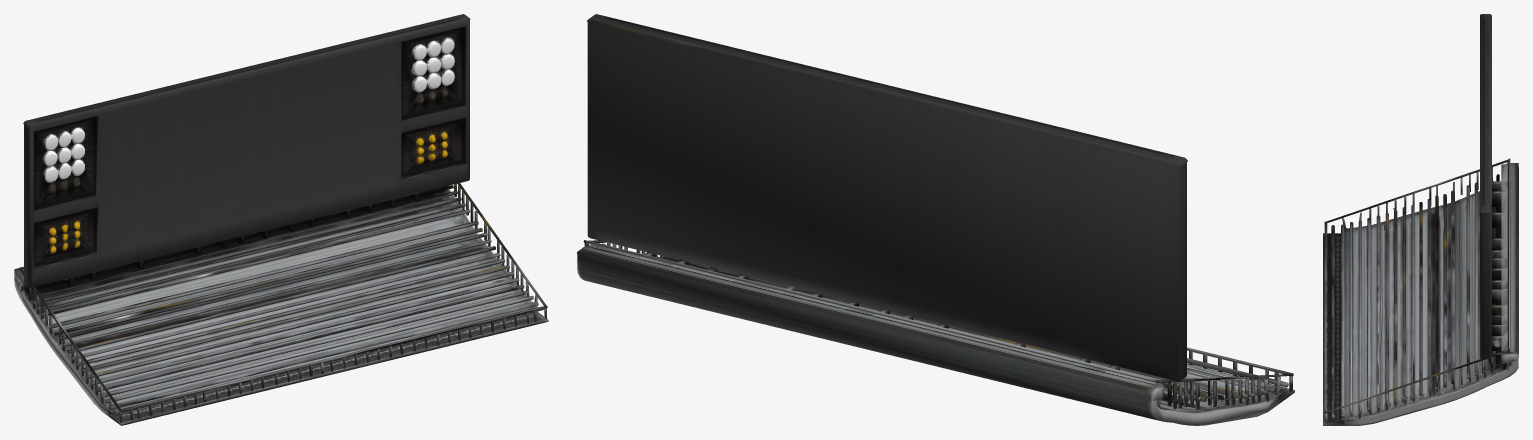
Rendered from stadium_scoreboard_8bd66713_v3.glb.
3 views of the same model, side by side, from view 1: azimuth 30°, elevation 25°; view 2: azimuth 150°, elevation 25°; view 3: azimuth 270°, elevation 25° (orthographic). The views are drawn at different scales.
Parts seen in each view (by area): view 1: texture_pbr_20250901; view 2: texture_pbr_20250901; view 3: texture_pbr_20250901.
Part boxes in pixels (x1=…): texture_pbr_20250901: x1=14, y1=14, x2=548, y2=425; texture_pbr_20250901: x1=577, y1=14, x2=1294, y2=425; texture_pbr_20250901: x1=1323, y1=14, x2=1518, y2=425.
Size of the model in its own units: 1.9 by 0.9804 by 0.7943.
Materials: 1 (1 with a texture image).
